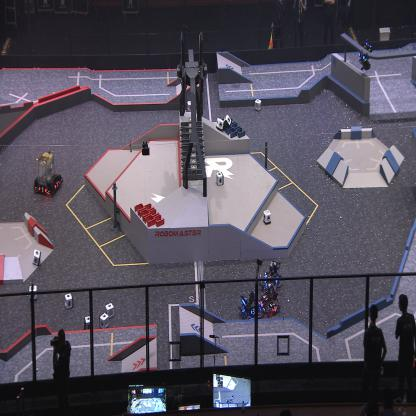car: (33, 152, 64, 196), (238, 291, 262, 324), (259, 280, 280, 315), (262, 260, 283, 291)
